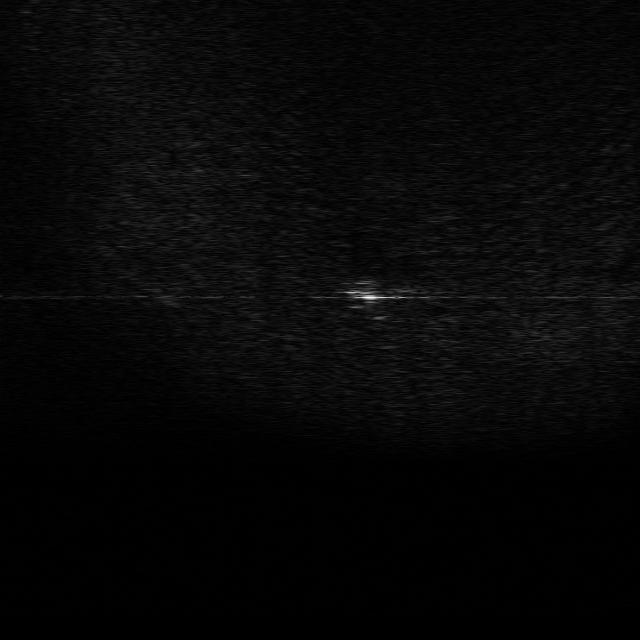plane: (338, 276, 422, 308)
